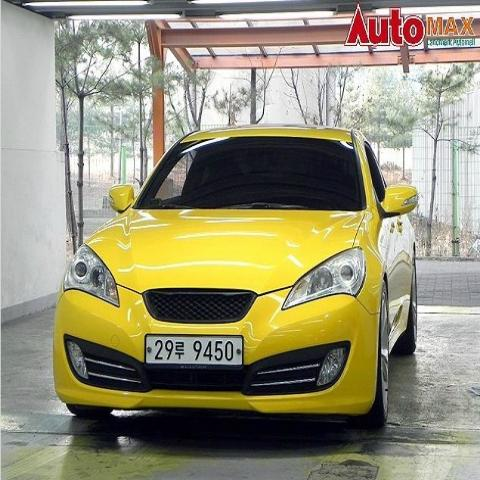LP: (141, 327, 246, 375)
